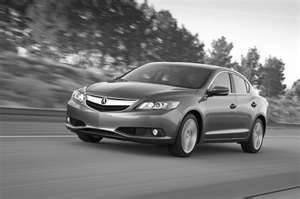car: (66, 61, 272, 159)
